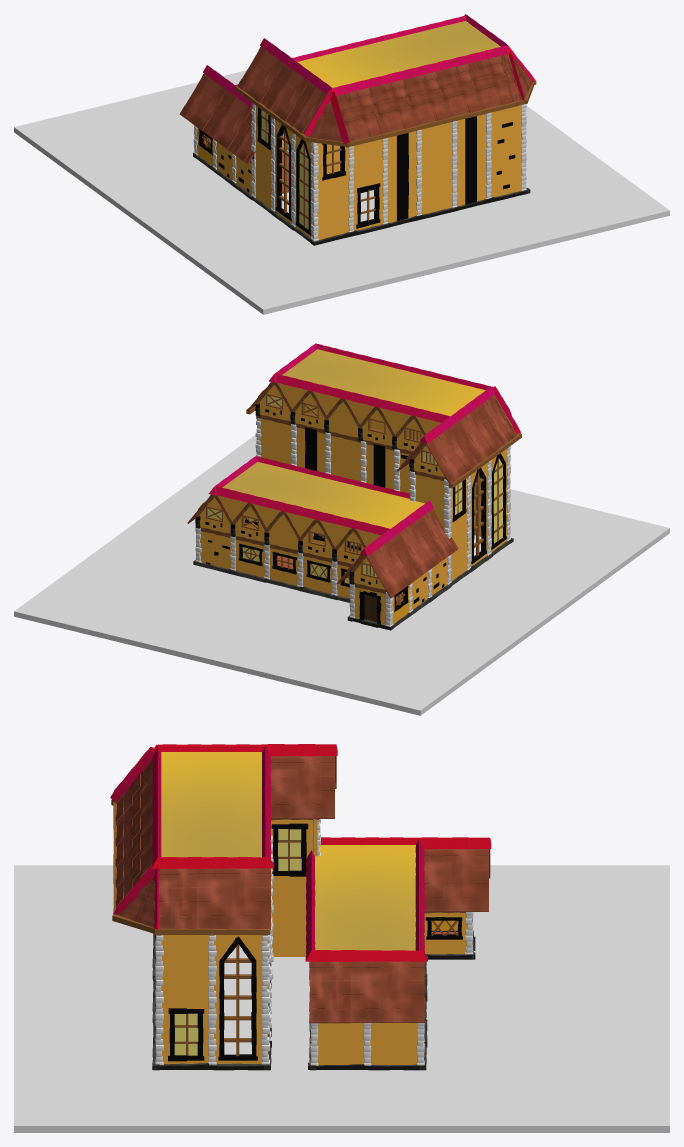
File: Demo.fbx
3 renders of one model, top to bottom at view 1: azimuth 30°, elevation 25°; view 2: azimuth 150°, elevation 25°; view 3: azimuth 270°, elevation 25°, orthographic. The views are drawn at different scales.
Parts seen in each view (by area): view 1: Cube, Floor 1.001, Wall pillars 1, Wall H 8, Wall H 10, Wall H 5, Wall H 7, Wall H 9, Wall H 6, Roof 1.001, Roof 5, Roof 1.004 (+18 smaller); view 2: Cube, Floor 1.001, Floor 1, Wall pillars 1, Roof 5, Roof 5.003, Wall H 4, Wall H 2, Roof 5.001, Wall H 1, Roof 5.004, Wall H 6.001 (+19 smaller); view 3: Cube, Floor 1.001, Floor 1, Wall H 3, Wall pillars 1, Wall H 1.001, Roof 3.001, Roof 3.004, Wall H 4.001, Roof 3, Roof 3.003, Roof 3.002 (+18 smaller).
Part boxes in pixels (x1,y1,x2,y2): Cube: (14, 70, 669, 314); Floor 1.001: (297, 21, 500, 87); Wall pillars 1: (193, 103, 526, 241); Wall H 8: (421, 122, 452, 214); Wall H 10: (491, 105, 521, 197); Wall H 5: (317, 143, 349, 239); Wall H 7: (387, 131, 416, 222); Wall H 9: (457, 114, 486, 206); Wall H 6: (353, 139, 383, 230); Roof 1.001: (368, 79, 414, 134); Roof 5: (179, 73, 231, 134); Roof 1.004: (468, 55, 512, 110); Cube: (14, 435, 669, 715); Floor 1.001: (282, 349, 485, 416); Floor 1: (222, 462, 424, 528); Wall pillars 1: (195, 415, 510, 626); Roof 5: (365, 536, 419, 598); Roof 5.003: (425, 423, 478, 485); Wall H 4: (470, 462, 488, 566); Wall H 2: (491, 448, 507, 551); Roof 5.001: (396, 518, 443, 577); Wall H 1: (451, 477, 467, 581); Roof 5.004: (455, 406, 502, 463); Wall H 6.001: (260, 419, 291, 464); Cube: (14, 865, 669, 1132); Floor 1.001: (161, 752, 261, 857); Floor 1: (315, 845, 415, 950); Wall H 3: (161, 935, 208, 1064); Wall pillars 1: (155, 819, 473, 1065); Wall H 1.001: (270, 819, 312, 956); Roof 3.001: (350, 961, 424, 1022); Roof 3.004: (196, 868, 270, 929); Wall H 4.001: (214, 935, 262, 1063); Roof 3: (424, 849, 488, 911); Roof 3.003: (270, 756, 334, 818); Roof 3.002: (310, 961, 350, 1023).
Size of the model in its own units: 2965 by 1097 by 3151.
57 materials, 56 textured.
